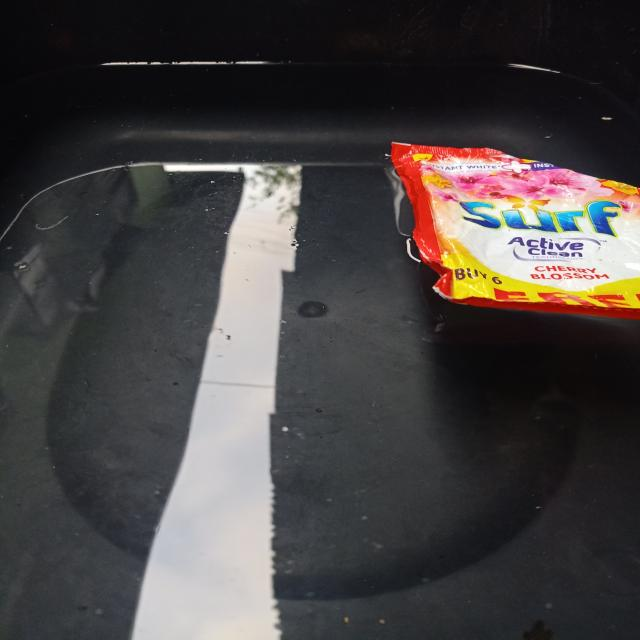Plastic Wrapper: (391, 143, 640, 319)
